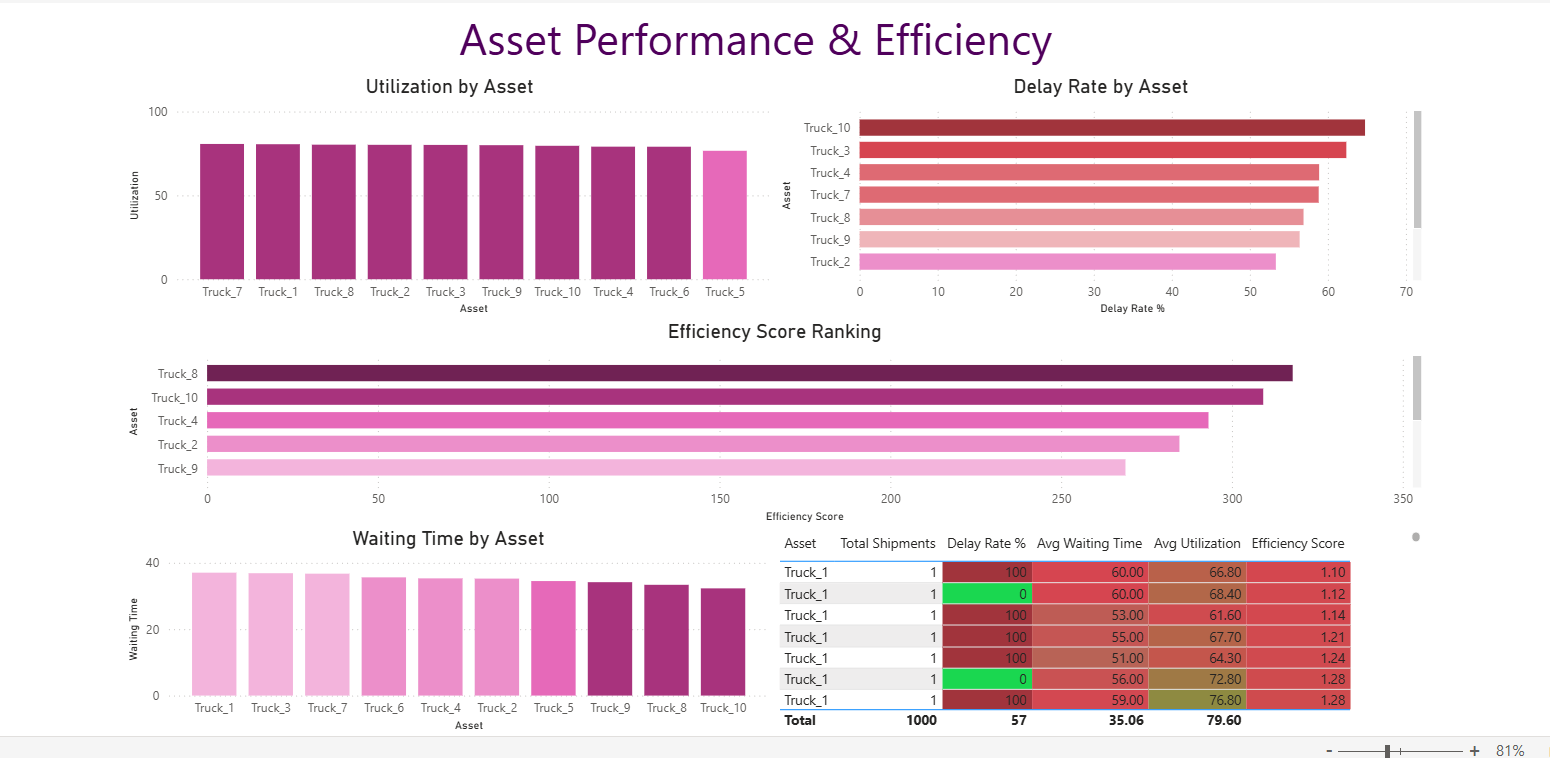

Layout of this report page (visuals, bound fields, positions):
{"tool":"powerbi","page":{"name":"Asset Performance Analysis","canvas":[1280,720],"ordinal":3},"visuals":[{"type":"textbox","box":[325.2,0,629.8,85.1],"z":0},{"type":"clusteredColumnChart","title":"Utilization by Asset","fields":{"Category":["supply_chain_cleaned.Asset_ID"],"Y":["Avg(supply_chain_cleaned.Asset_Utilization)"]},"box":[1.4,71.4,639.5,240.1],"z":1},{"type":"barChart","title":"Delay Rate by Asset","fields":{"Category":["supply_chain_cleaned.Asset_ID"],"Y":["Key Measures.Delay Rate %"]},"box":[640.8,71.4,639.5,240.1],"z":2},{"type":"barChart","title":"Efficiency Score Ranking","fields":{"Category":["supply_chain_cleaned.Asset_ID"],"Y":["Sum(supply_chain_cleaned.Efficiency_Score)"]},"box":[0,311.5,1280.3,203.1],"z":3},{"type":"columnChart","title":"Waiting Time by Asset","fields":{"Category":["supply_chain_cleaned.Asset_ID"],"Y":["Avg(supply_chain_cleaned.Waiting_Time)"]},"box":[0,514.6,639.5,205.8],"z":4},{"type":"tableEx","fields":{"Values":["supply_chain_cleaned.Asset_ID","Key Measures.Total Shipments","Key Measures.Delay Rate %","Key Measures.Avg Waiting Time","Key Measures.Avg Utilization","supply_chain_cleaned.Efficiency_Score"]},"box":[639,515,641,205],"z":5}]}

Visuals, with their boxes on the page's 1280x720 design canvas (x1, y1, x2, y2). These are canvas units, not pixel positions in the 1550x758 screenshot, which may show the page scaled, cropped or inside an application window:
textbox: crop(325, 0, 955, 85)
"Utilization by Asset" clusteredColumnChart: crop(1, 71, 641, 312)
"Delay Rate by Asset" barChart: crop(641, 71, 1280, 312)
"Efficiency Score Ranking" barChart: crop(0, 312, 1280, 515)
"Waiting Time by Asset" columnChart: crop(0, 515, 640, 720)
tableEx - supply_chain_cleaned.Asset_ID x Key Measures.Total Shipments: crop(639, 515, 1280, 720)
